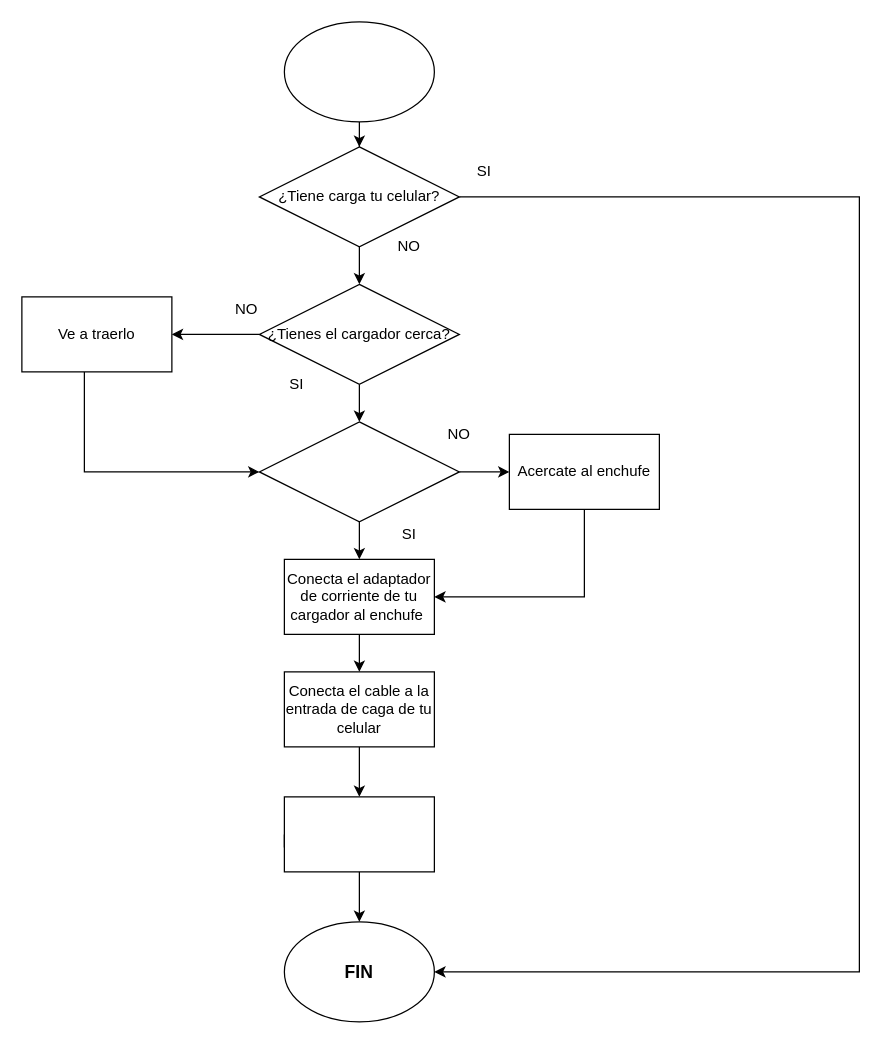
The diagram is 891 pixels wide and 1044 high, and some of its shapes have lost their labels. Here are the shapes that lost their labels. From the top down, the box of each, then its label:
(283, 21, 434, 122): INICIO
(258, 421, 459, 522): ¿Tienes el enchufe cerca?
(283, 796, 434, 872): Espera a que carge al 100%
